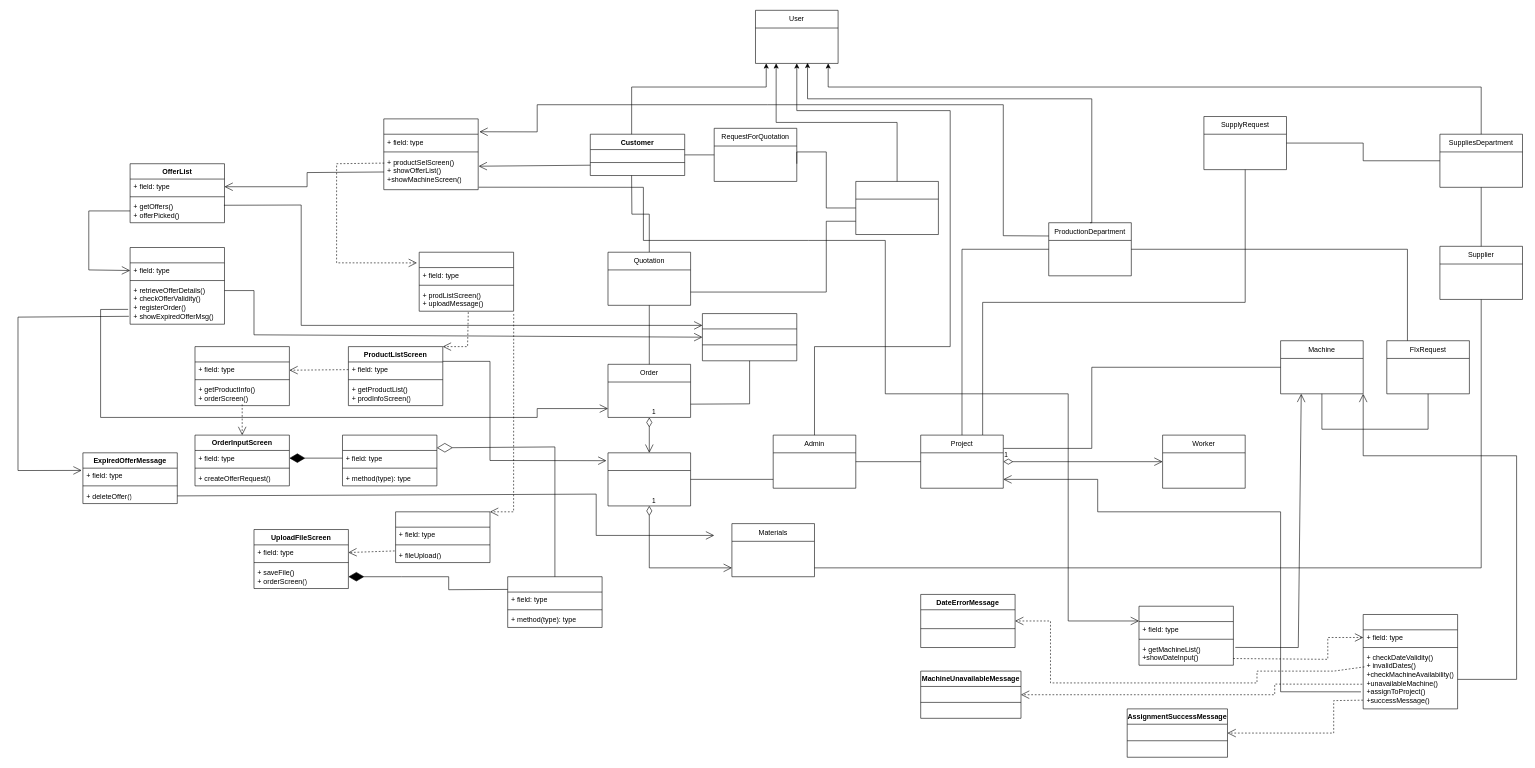
Some shapes in this 1535 by 768 pixel diagram are drawn without their labels. Each missing label, with the box of its shape:
DateInputScreen: (1363, 614, 1458, 709)
MachineAssignmentScreen: (1138, 606, 1233, 665)
Menu: (383, 118, 478, 190)
Offer: (702, 313, 797, 361)
OfferDetailScreen: (130, 247, 224, 324)
OfferRequest: (342, 435, 437, 486)
Product: (607, 452, 691, 506)
ProductInformationScreen: (194, 346, 289, 406)
ProductSelectionScreen: (419, 252, 514, 311)
SalesDepartment: (855, 181, 938, 235)
TechnicalDocument: (507, 576, 602, 627)
UploadFilesMessage: (395, 511, 490, 563)
